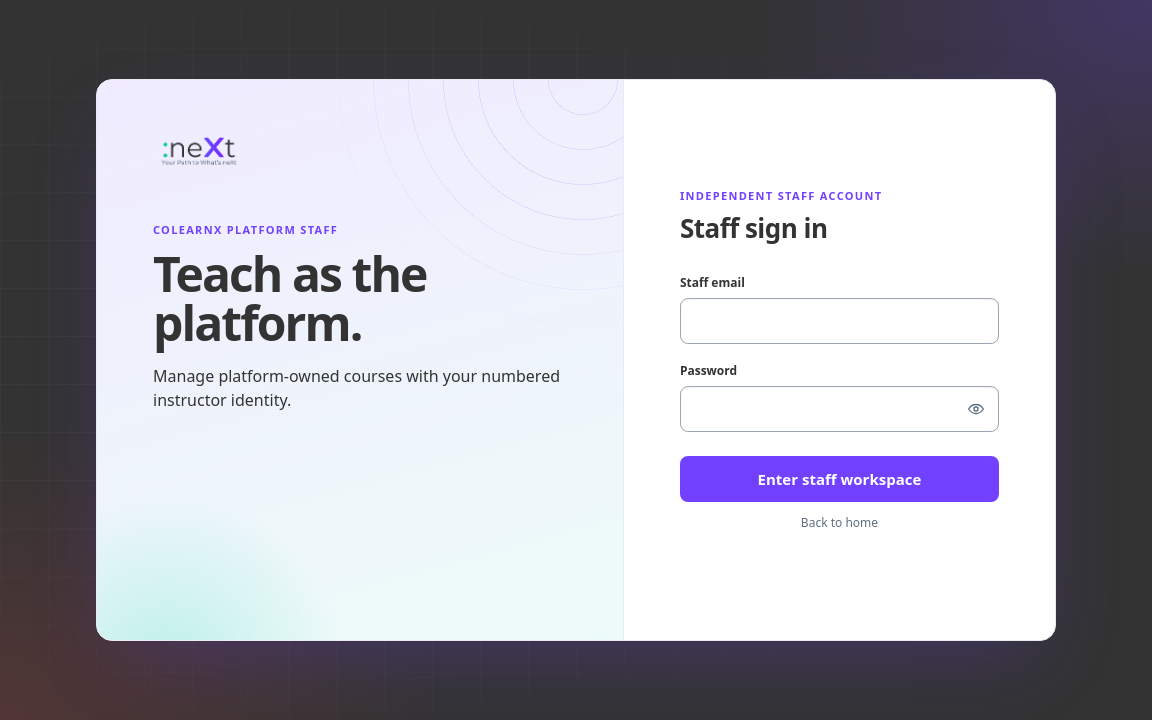
Test case: shows a clear login failure when the password is incorrect
The image size is (1152, 720).
In the field labelled "Staff email": (839,321) [680,298,999,344], type "staff@example.com"
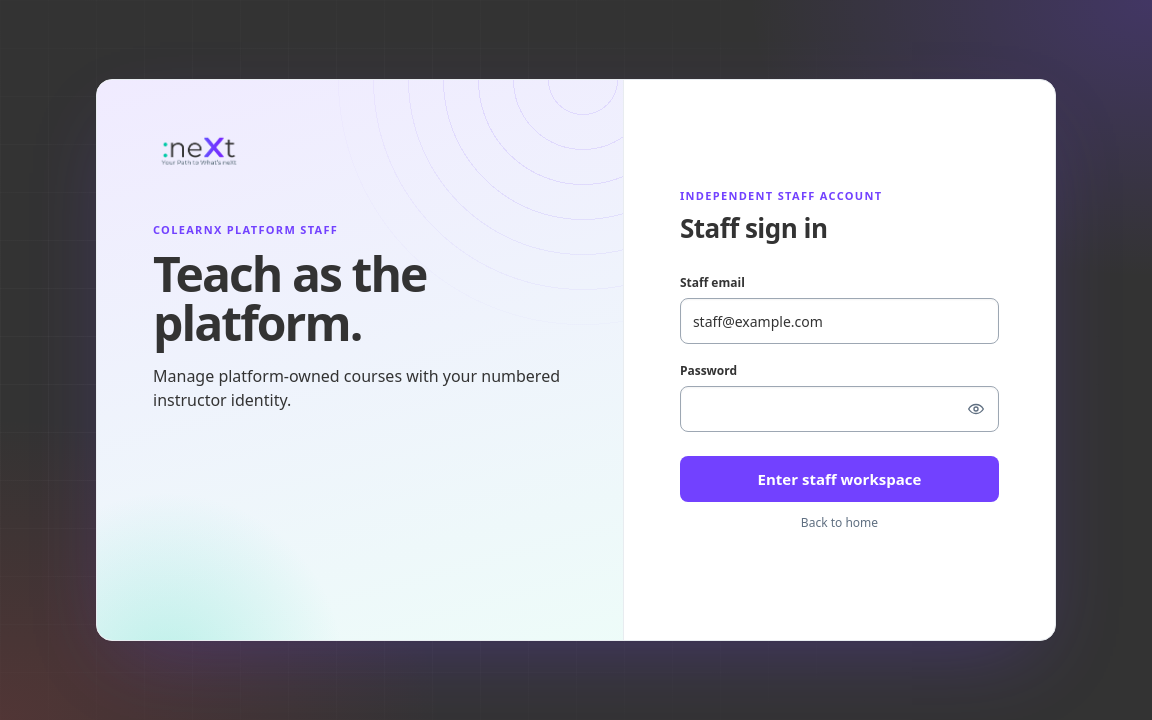
In the password field labelled "Password": (839,409) [680,386,999,432], type "WrongPassword123!"
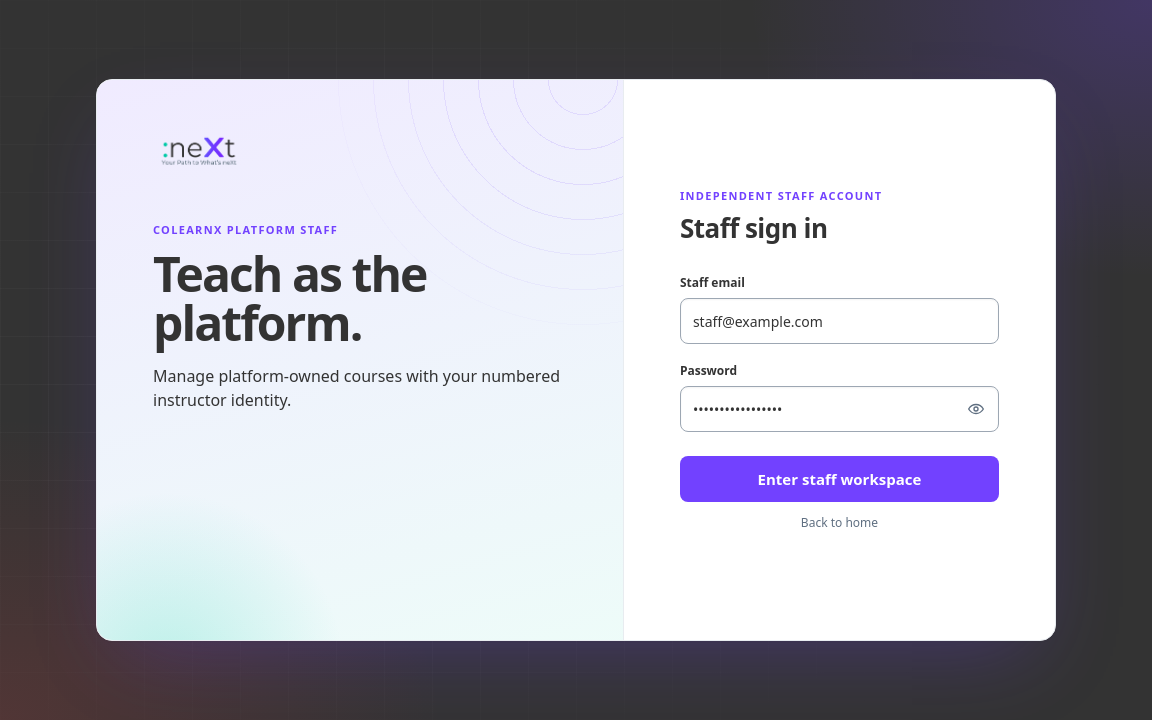
Click the button "Enter staff workspace": (839,479) [680,456,999,502]
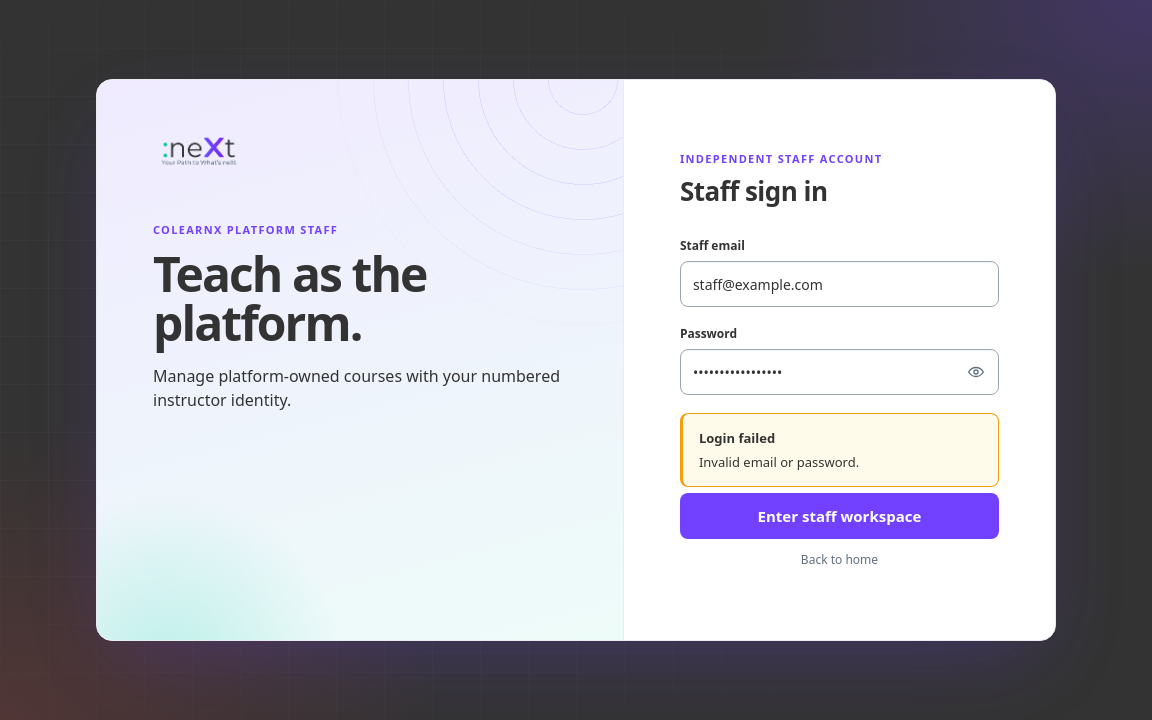
Expected: the message shows "Login failed", [699,429,775,447]
Expected: the message shows "Invalid email or password.", [699,453,859,471]
